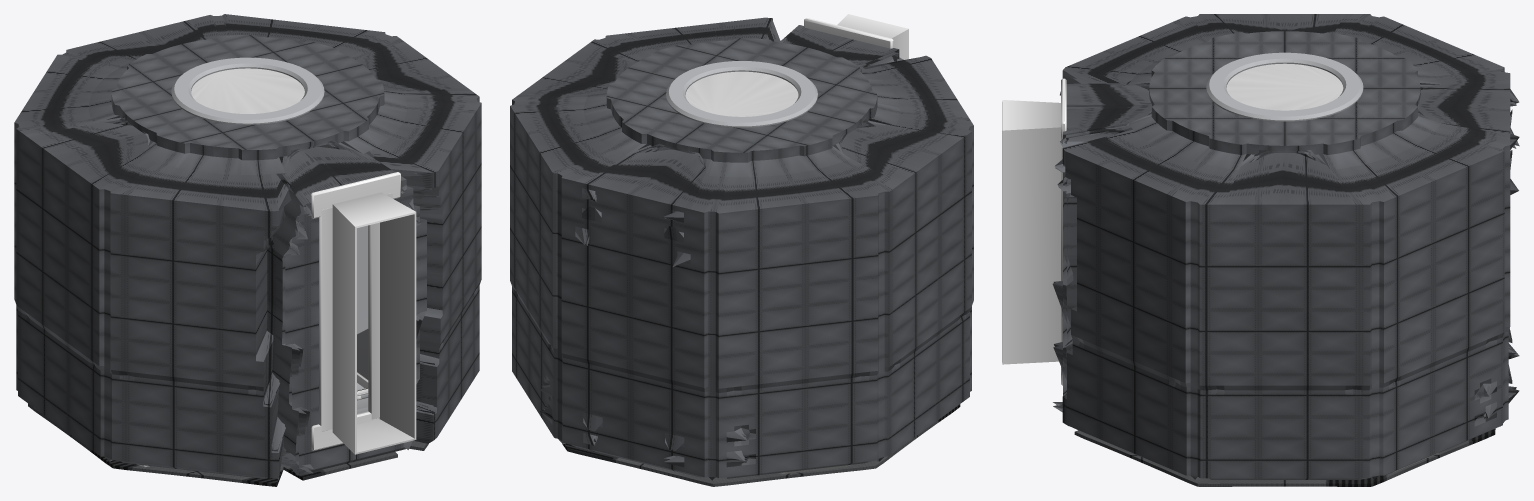
Rendered from Lander1vInterior.fbx.
3 views of the same model, side by side, from view 1: azimuth 30°, elevation 25°; view 2: azimuth 150°, elevation 25°; view 3: azimuth 270°, elevation 25° (orthographic). The views are drawn at different scales.
Visible parts, largest first — view 1: Mesh_WallPadded, Mesh_FrameDark.001, Mesh_Frame.001, Mesh_HatchDetail, Mesh_DeckPlate, Mesh_GreyLockerDetail; view 2: Mesh_WallPadded, Mesh_Frame.001, Mesh_HatchDetail, Mesh_DeckPlate, Mesh_FrameDark.001; view 3: Mesh_WallPadded, Mesh_FrameDark.001, Mesh_Frame.001, Mesh_HatchDetail, Mesh_DeckPlate.
Part boxes in pixels (x1,y1,x2,y2): Mesh_WallPadded: (14,14,481,479); Mesh_FrameDark.001: (310,172,416,454); Mesh_Frame.001: (171,57,368,413); Mesh_HatchDetail: (191,68,304,113); Mesh_DeckPlate: (28,403,428,486); Mesh_GreyLockerDetail: (357,329,368,379); Mesh_WallPadded: (510,17,973,480); Mesh_Frame.001: (666,61,817,127); Mesh_HatchDetail: (685,71,798,116); Mesh_DeckPlate: (562,404,960,486); Mesh_FrameDark.001: (804,14,908,59); Mesh_WallPadded: (1052,14,1519,479); Mesh_FrameDark.001: (1002,78,1066,385); Mesh_Frame.001: (1206,52,1363,121); Mesh_HatchDetail: (1226,63,1343,110); Mesh_DeckPlate: (1074,428,1495,486).
Size of the model in its own units: 1.58 by 1.22 by 1.81.
